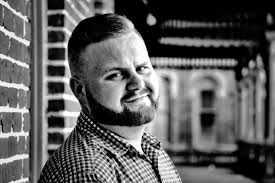no-mask: (59, 15, 173, 132)
